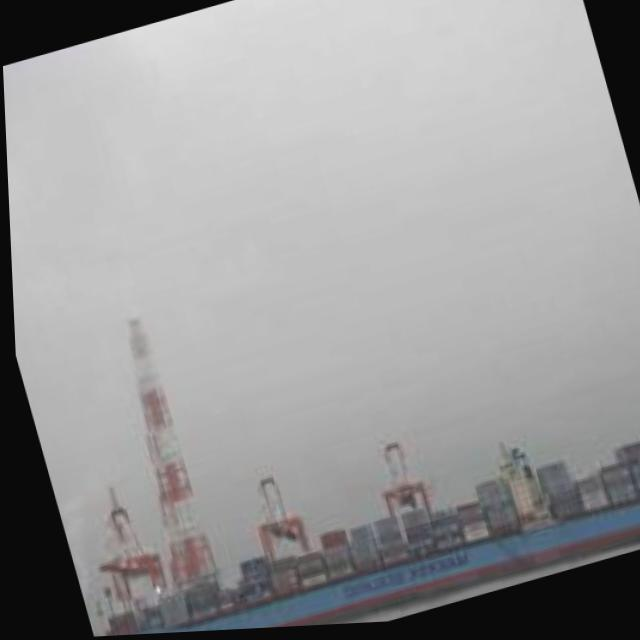ship2: (99, 440, 640, 637)
